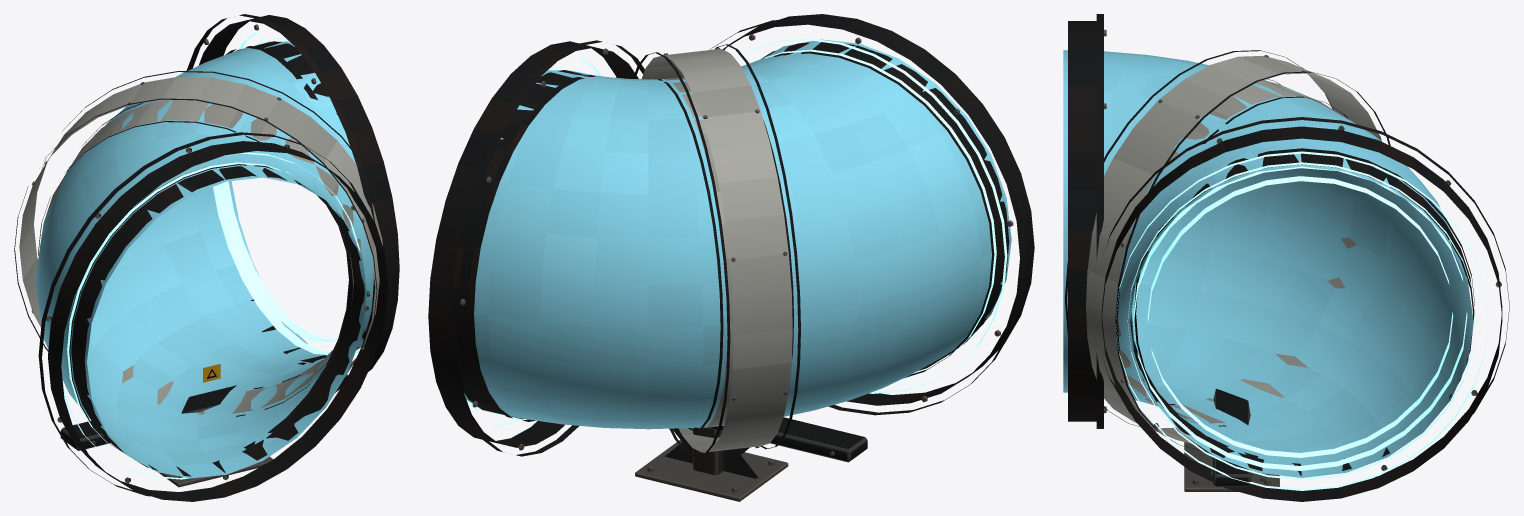
File: concept_tube_bend.glb
3 views of the same model, side by side, from view 1: azimuth 30°, elevation 25°; view 2: azimuth 150°, elevation 25°; view 3: azimuth 270°, elevation 25° (orthographic). The views are drawn at different scales.
Parts seen in each view (by area): view 1: Glass, Frame, Pulse; view 2: Glass, Frame; view 3: Glass, Frame, Pulse.
Boxes of the visible parts, <box> form: Glass: <box>35,41,373,478</box>; Frame: <box>14,14,399,501</box>; Pulse: <box>213,181,337,354</box>; Glass: <box>464,39,1011,429</box>; Frame: <box>428,14,1034,501</box>; Glass: <box>1063,50,1473,477</box>; Frame: <box>1065,14,1509,501</box>; Pulse: <box>1133,166,1467,470</box>.
Bounding box in the file's own units: 1.88 × 1.87 × 1.87.
